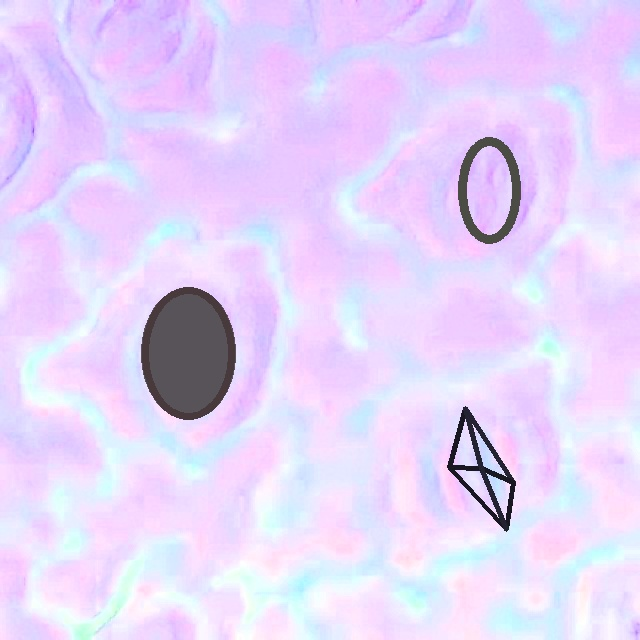close: (141, 287, 235, 420)
open: (447, 406, 515, 531), (456, 136, 521, 245)
